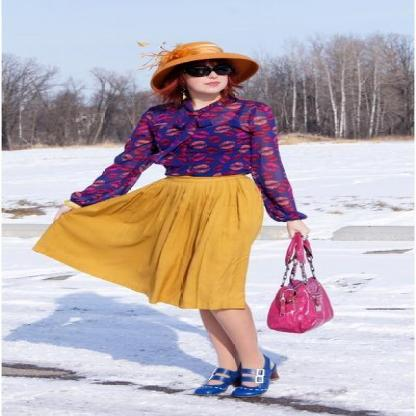bag: (267, 230, 333, 333)
hat: (151, 42, 258, 102)
shirt: (70, 92, 306, 221)
shoe: (193, 354, 276, 399)
skirt: (32, 174, 265, 310)
sunglass: (187, 58, 231, 74)
